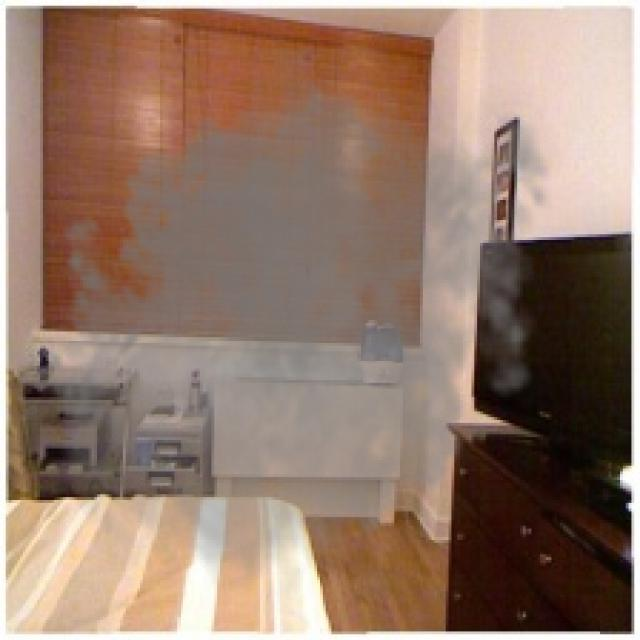Smoke: (37, 48, 566, 614)
